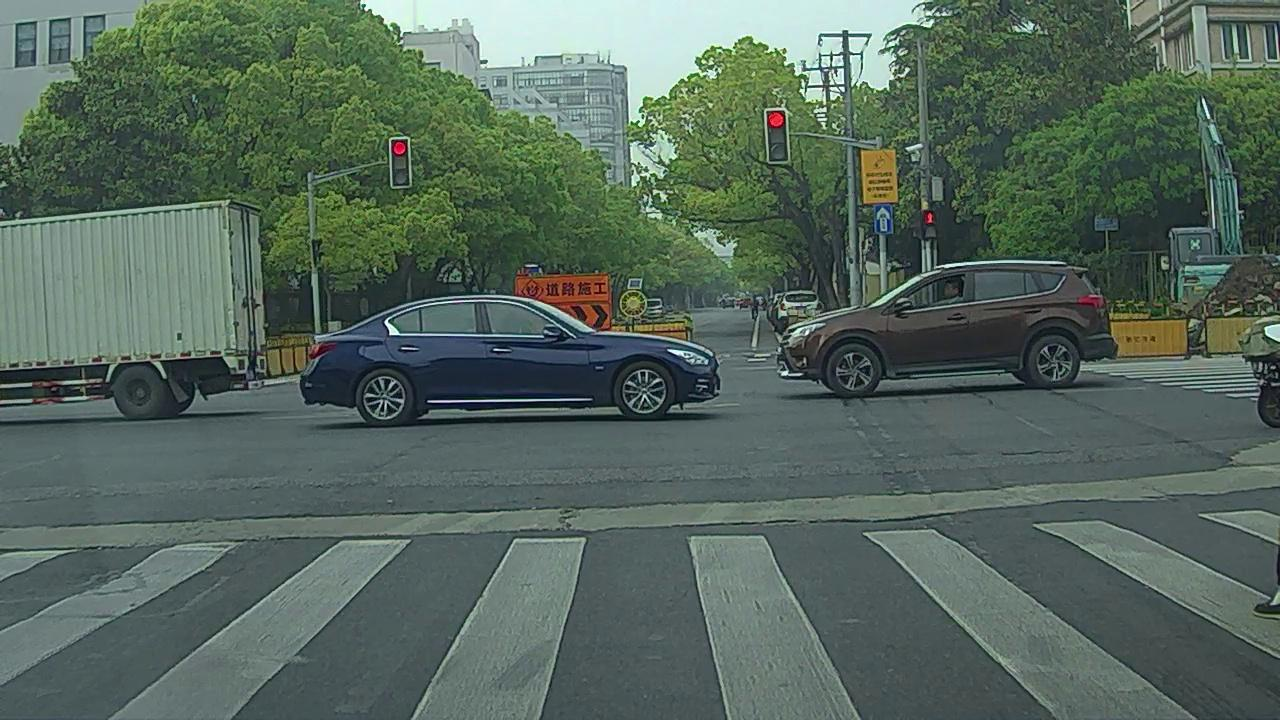traffic_light: (763, 110, 789, 164), (391, 137, 409, 185)
